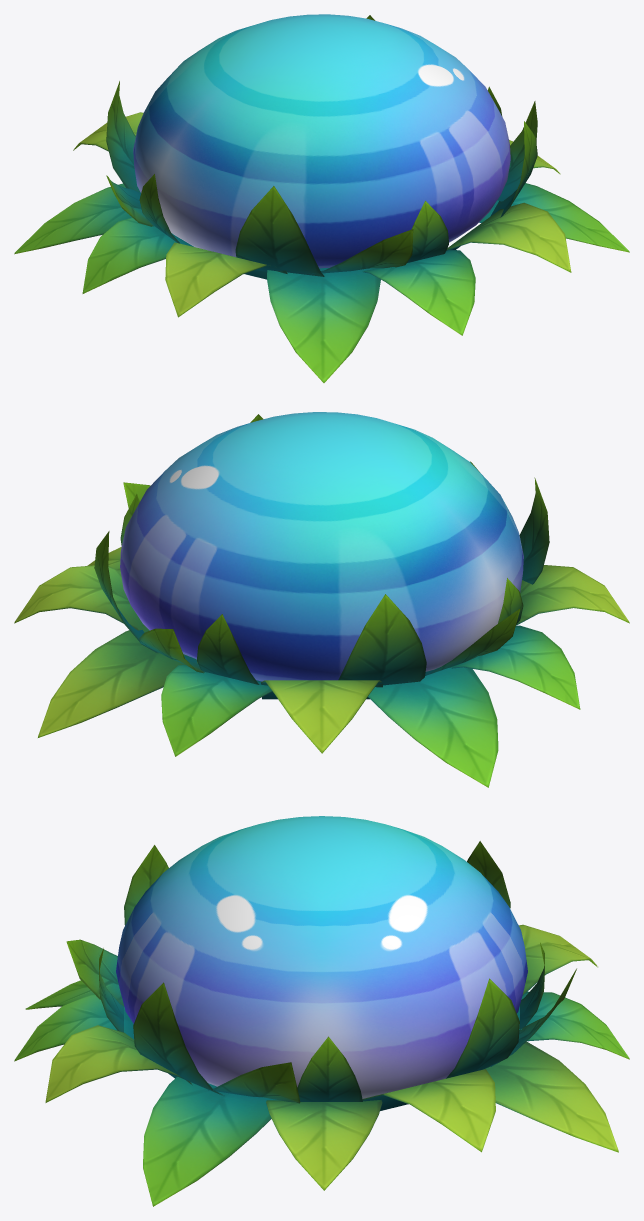
File: scenes_common_jelly01.FBX
3 views of the same model, one above another, from view 1: azimuth 30°, elevation 25°; view 2: azimuth 150°, elevation 25°; view 3: azimuth 270°, elevation 25° (orthographic). The views are drawn at different scales.
Visible parts, largest first — view 1: scenes_common_jelly01; view 2: scenes_common_jelly01; view 3: scenes_common_jelly01.
Boxes of the visible parts, x1,y1,x2,y2 form: scenes_common_jelly01: (14,14,629,382); scenes_common_jelly01: (14,412,629,787); scenes_common_jelly01: (14,816,629,1206).
Bounding box in the file's own units: 309 × 132 × 309.
